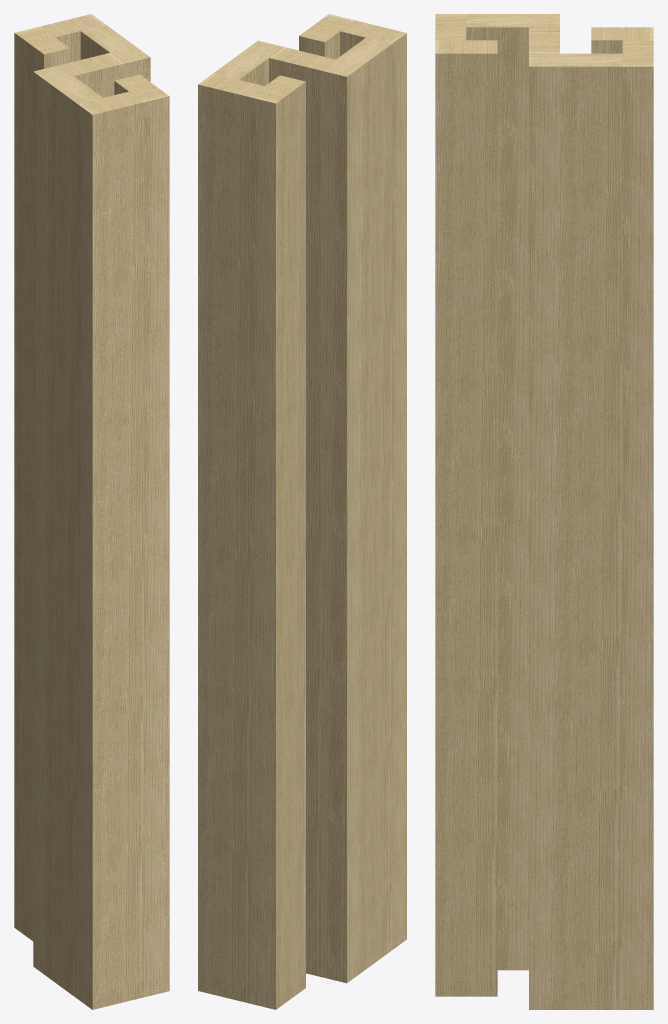
The picture shows the model from 3 angles, left to right: view 1: azimuth 30°, elevation 25°; view 2: azimuth 150°, elevation 25°; view 3: azimuth 270°, elevation 25°; orthographic projection. The views are drawn at different scales.
Visible parts, largest first — view 1: Geom3D (×7); view 2: Geom3D (×7); view 3: Geom3D (×7).
Boxes of the visible parts, x1=… form: Geom3D (×7): x1=14, y1=14, x2=169, y2=1009; Geom3D (×7): x1=198, y1=14, x2=406, y2=1009; Geom3D (×7): x1=435, y1=14, x2=653, y2=1009.
Bounding box in the file's own units: 0.072 × 0.6 × 0.126.
1 material, 1 textured.
